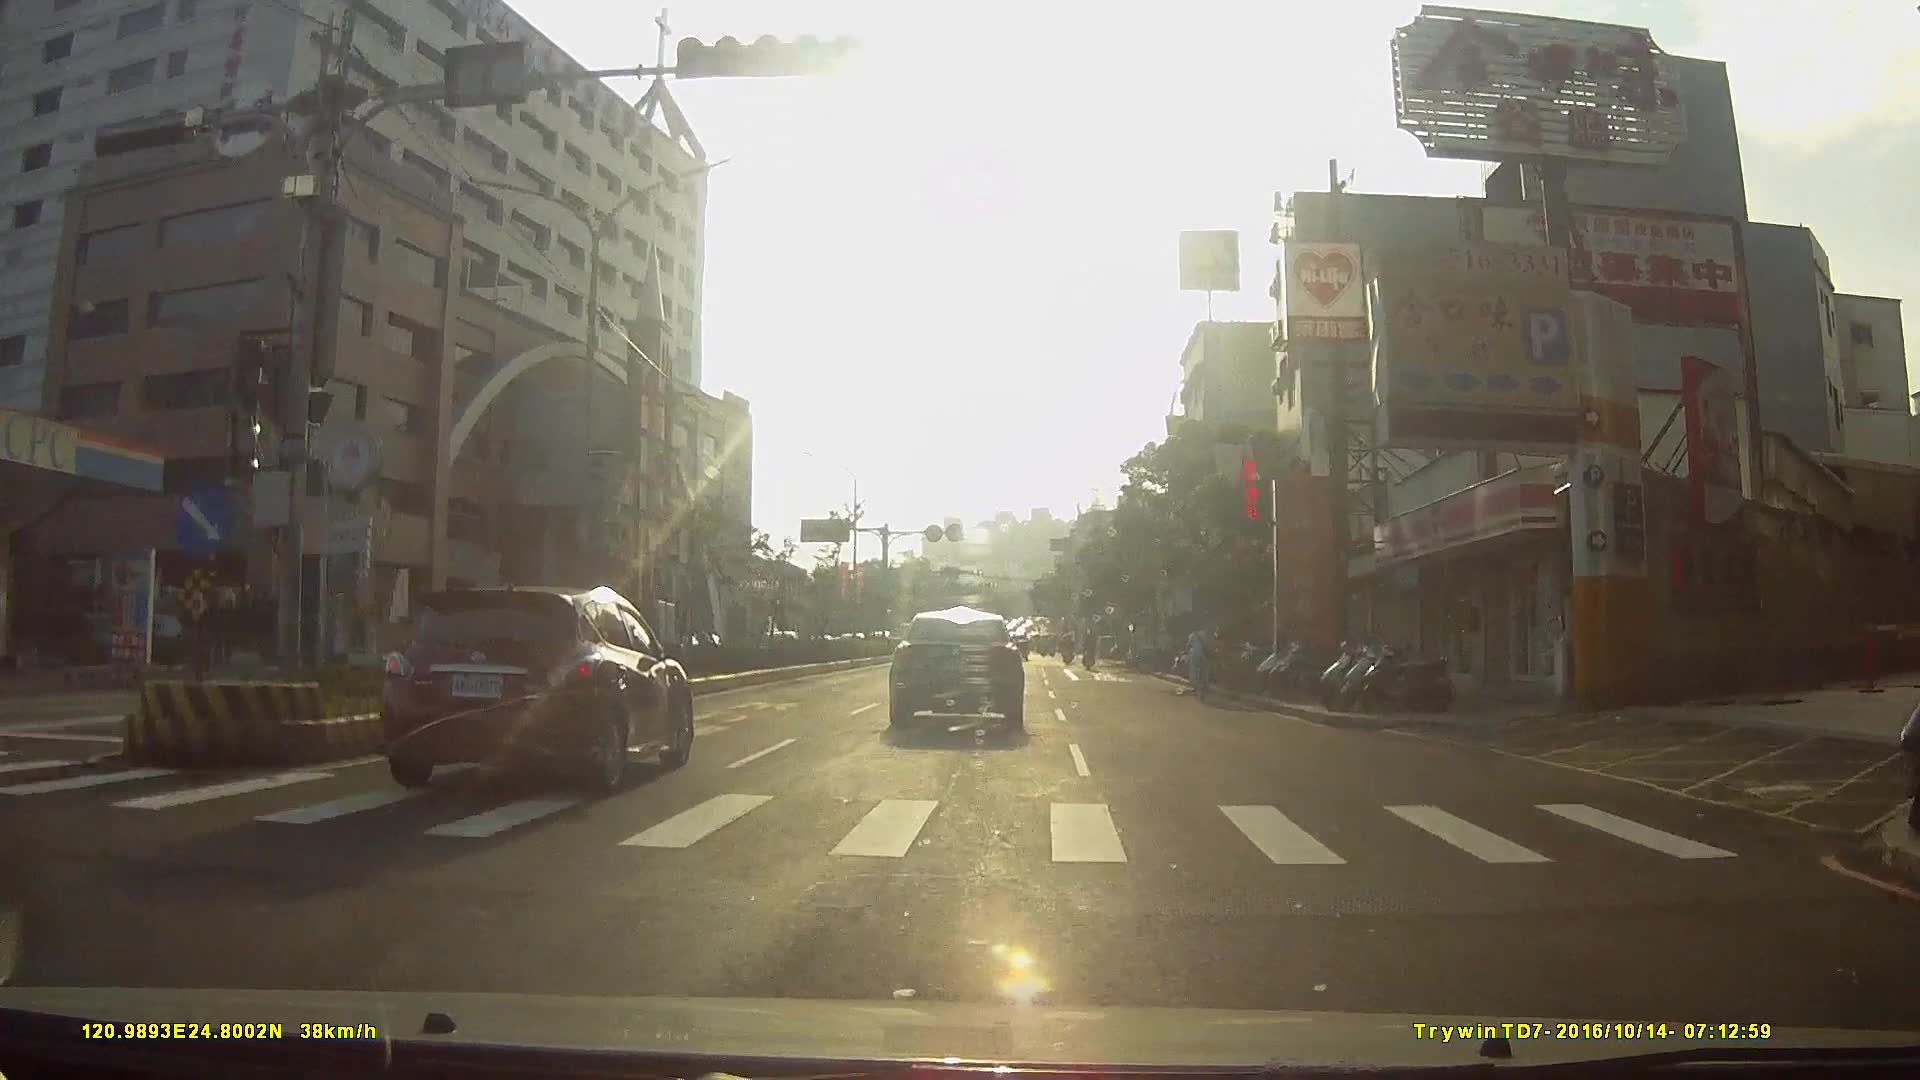rider: (1183, 617, 1217, 706)
vehicle: (369, 579, 702, 801), (885, 606, 1034, 736), (763, 607, 822, 662), (1125, 619, 1177, 673)
